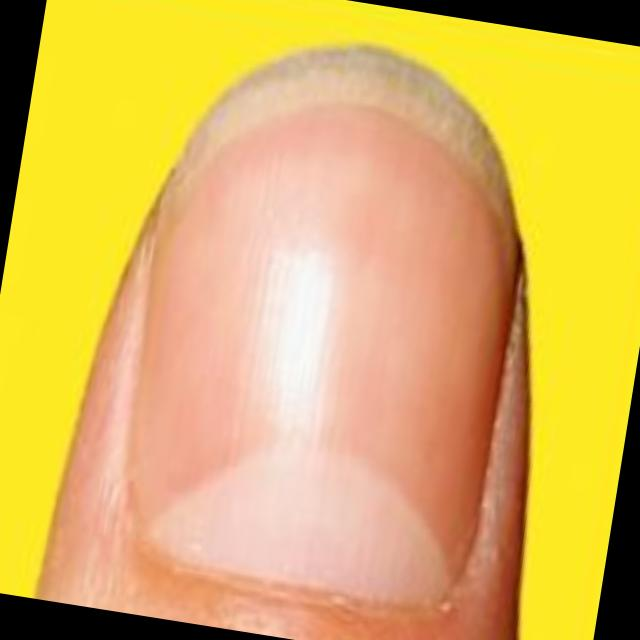Nail: (132, 106, 513, 604)
